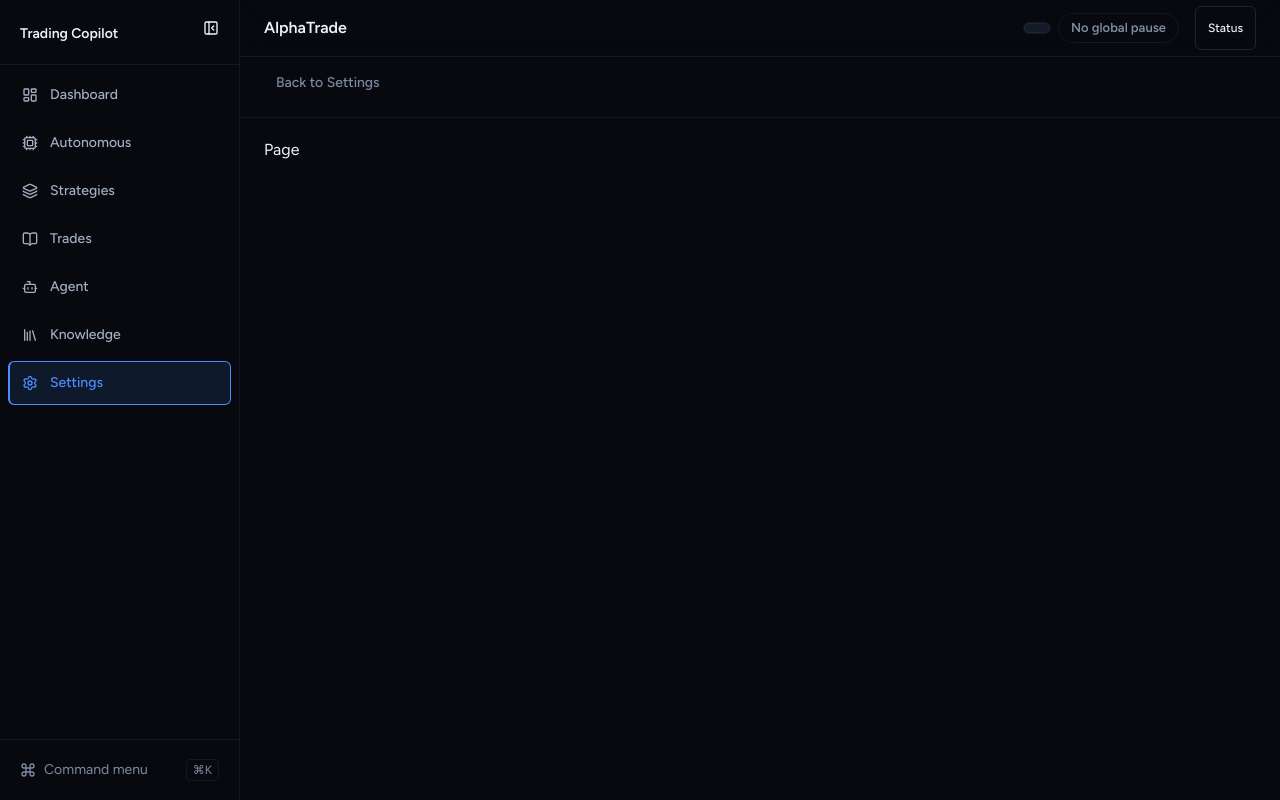
Test: AT-040 Phase B AppShell › gives every shell control a distinct accessible name (FP2-224)
Click the button "Status" at (1226, 28), box x1=1195 y1=6 x2=1256 y2=50
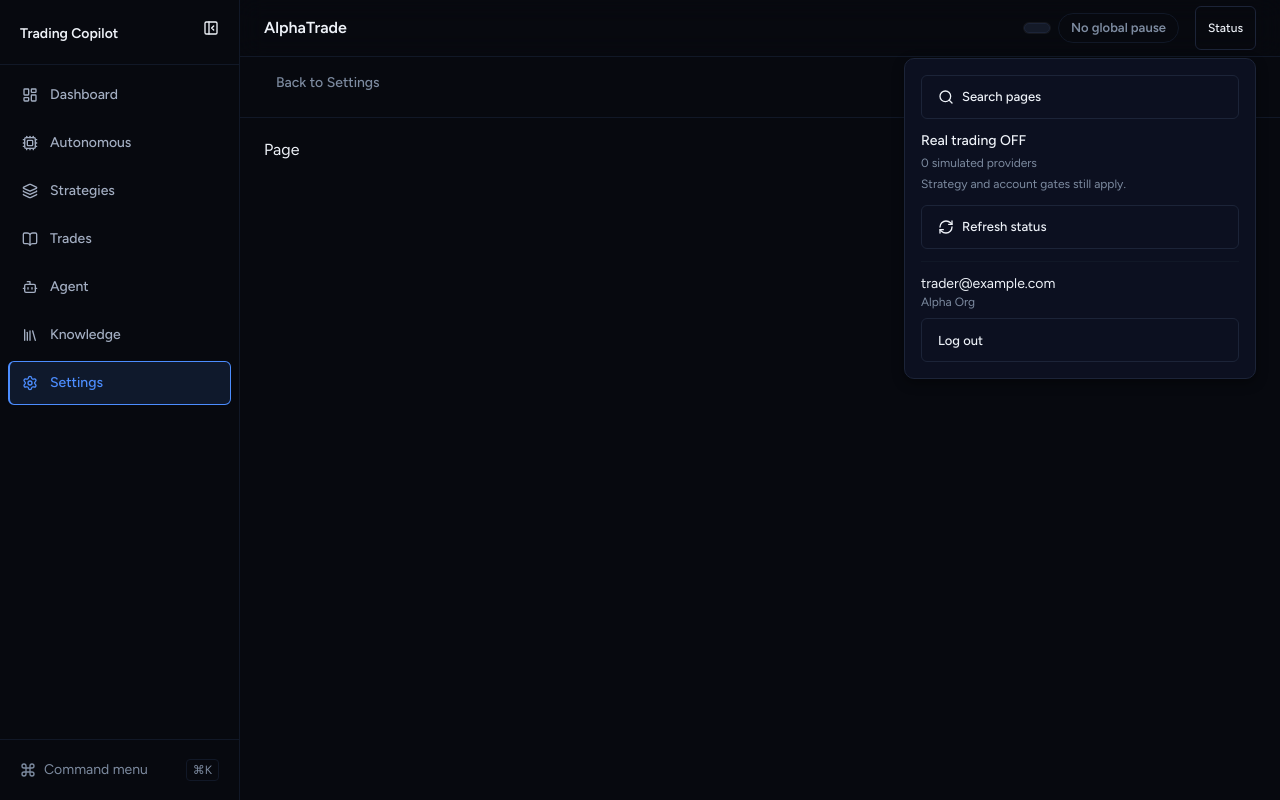
Expected: the button with aria-label "Search pages and destinations" is shown, x1=921 y1=75 x2=1239 y2=119
